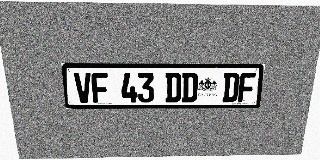3: (138, 72, 154, 103)
4: (121, 72, 138, 103)
D: (222, 72, 240, 102), (165, 72, 182, 102), (181, 72, 198, 102)
F: (91, 72, 109, 103), (238, 72, 256, 102)
V: (74, 72, 92, 103)
